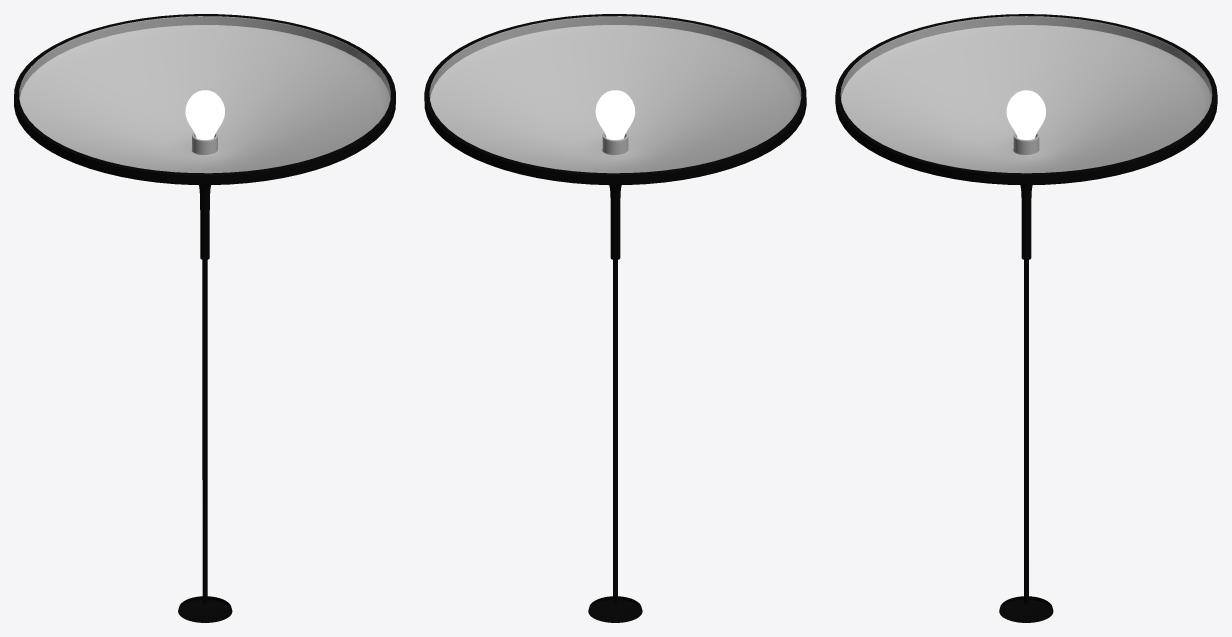
The model's file is lamp3.glb.
The picture shows the model from 3 angles, left to right: view 1: azimuth 30°, elevation 25°; view 2: azimuth 150°, elevation 25°; view 3: azimuth 270°, elevation 25°; orthographic projection.
Visible parts, largest first — view 1: Black ceiling lamp; view 2: Black ceiling lamp; view 3: Black ceiling lamp.
Part boxes in pixels (bbox=[...]): Black ceiling lamp: bbox=[14, 14, 395, 622]; Black ceiling lamp: bbox=[424, 14, 806, 622]; Black ceiling lamp: bbox=[835, 14, 1217, 622].
Size of the model in its own units: 0.4003 by 0.5998 by 0.4003.
Materials: 7 (1 with a texture image).
